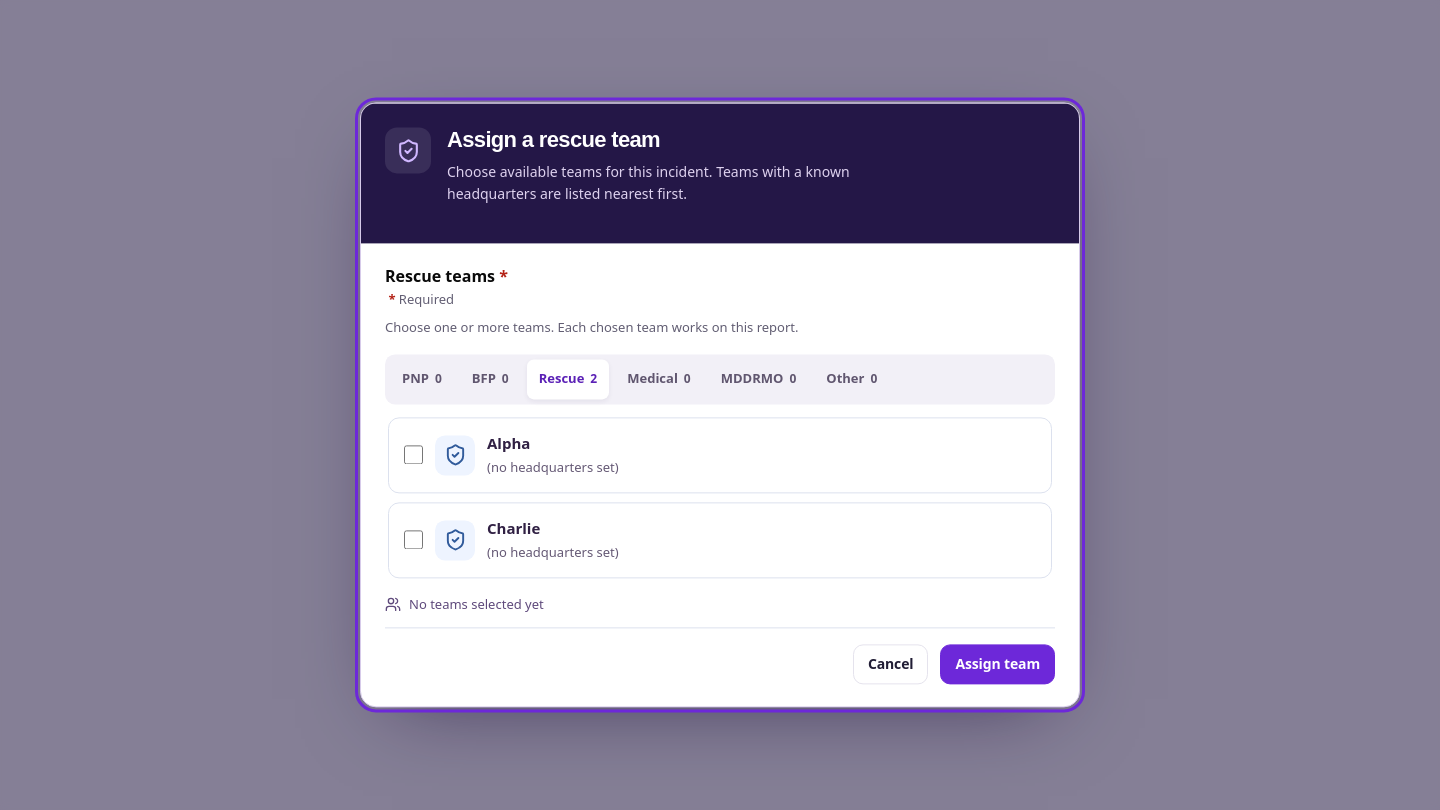
Test: AssignTeamDialog › refuses to assign when no team is chosen, and sends nothing
What coordinates should you click on to do the following:
click the button "Assign team"
I would click on:
 (998, 665)
Its box is [940,645,1055,685].
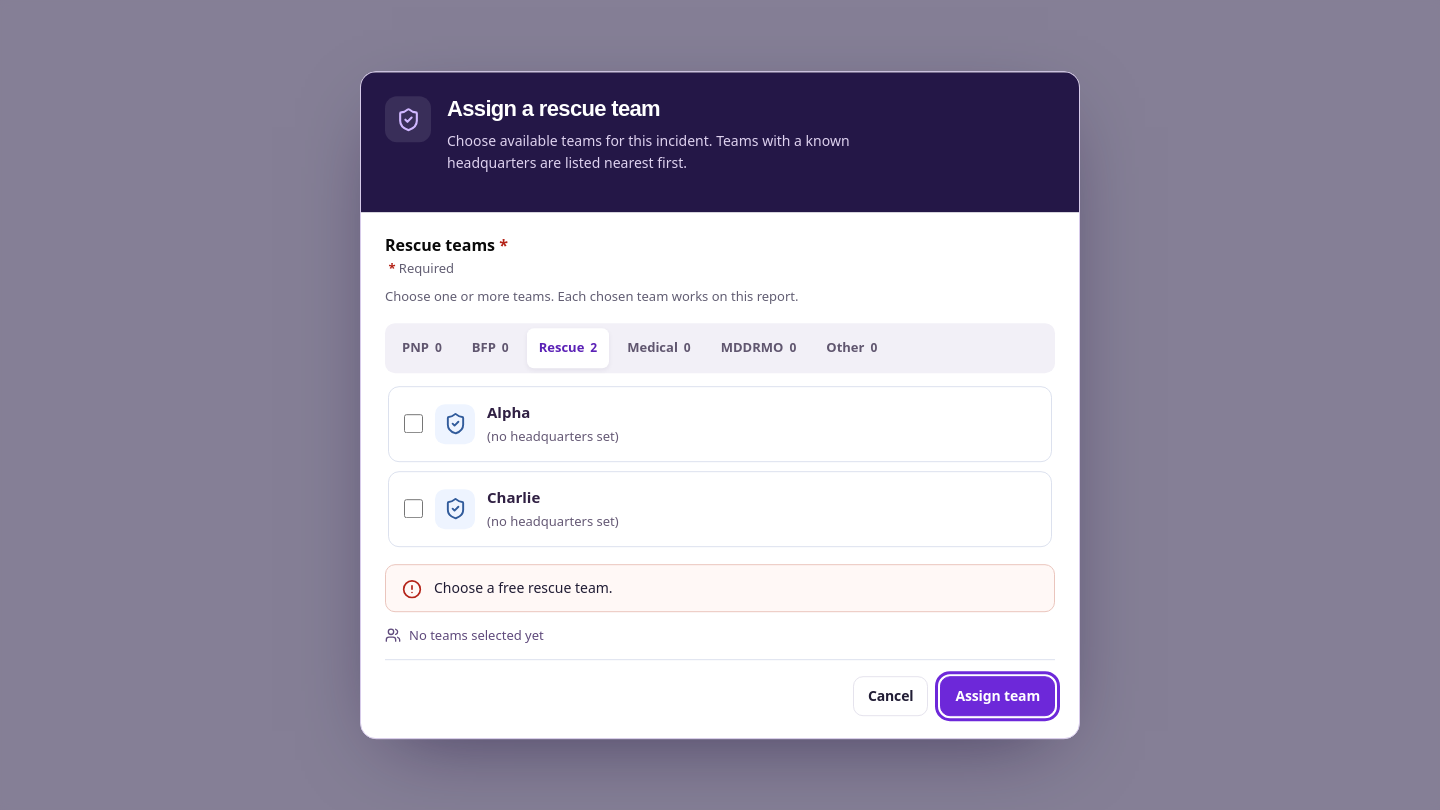
Result: the message "Choose a free rescue team." is shown at [385,564,1055,612]
